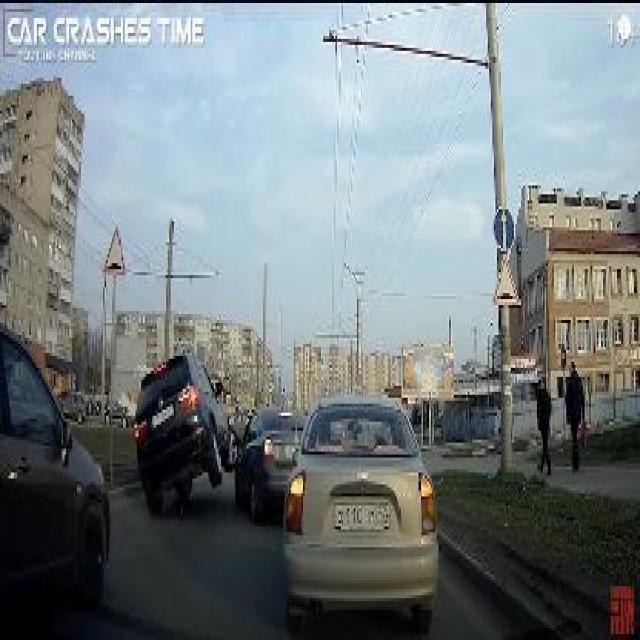accident: (132, 350, 283, 526)
